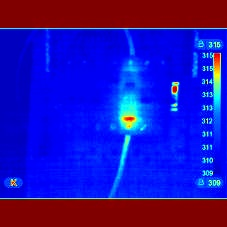Critical: (114, 98, 153, 139)
